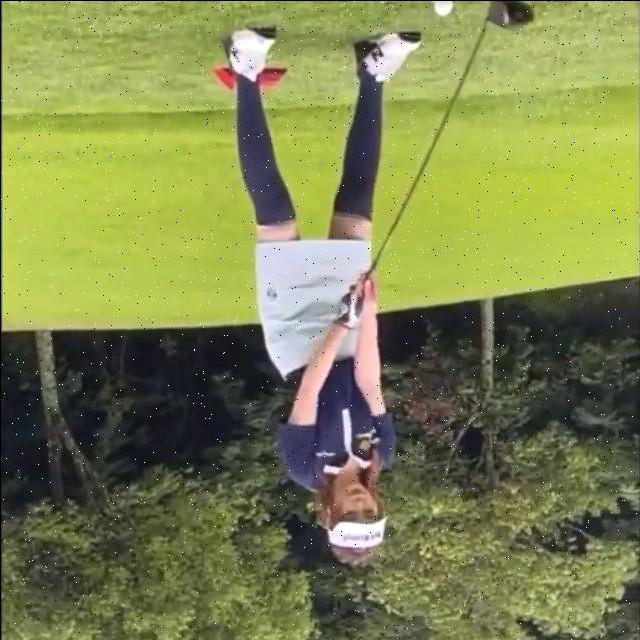golf ball: (433, 0, 451, 16)
golf club-handle: (367, 0, 534, 284)
golf club-head: (489, 0, 534, 27)
